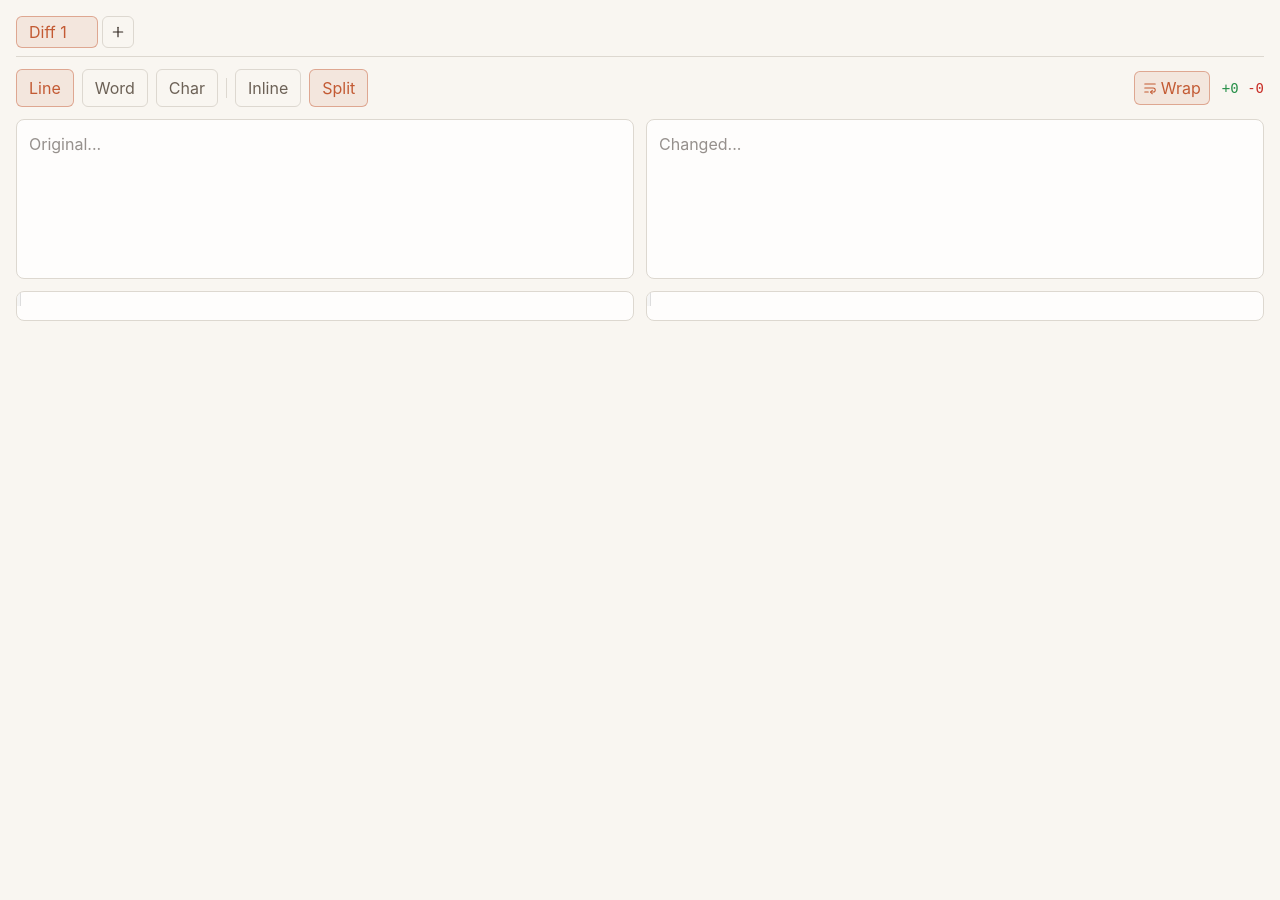
Test case: DiffTool › highlights an added word in inline mode
Click the button "Inline".
click(268, 88)  # box [235,69,301,107]
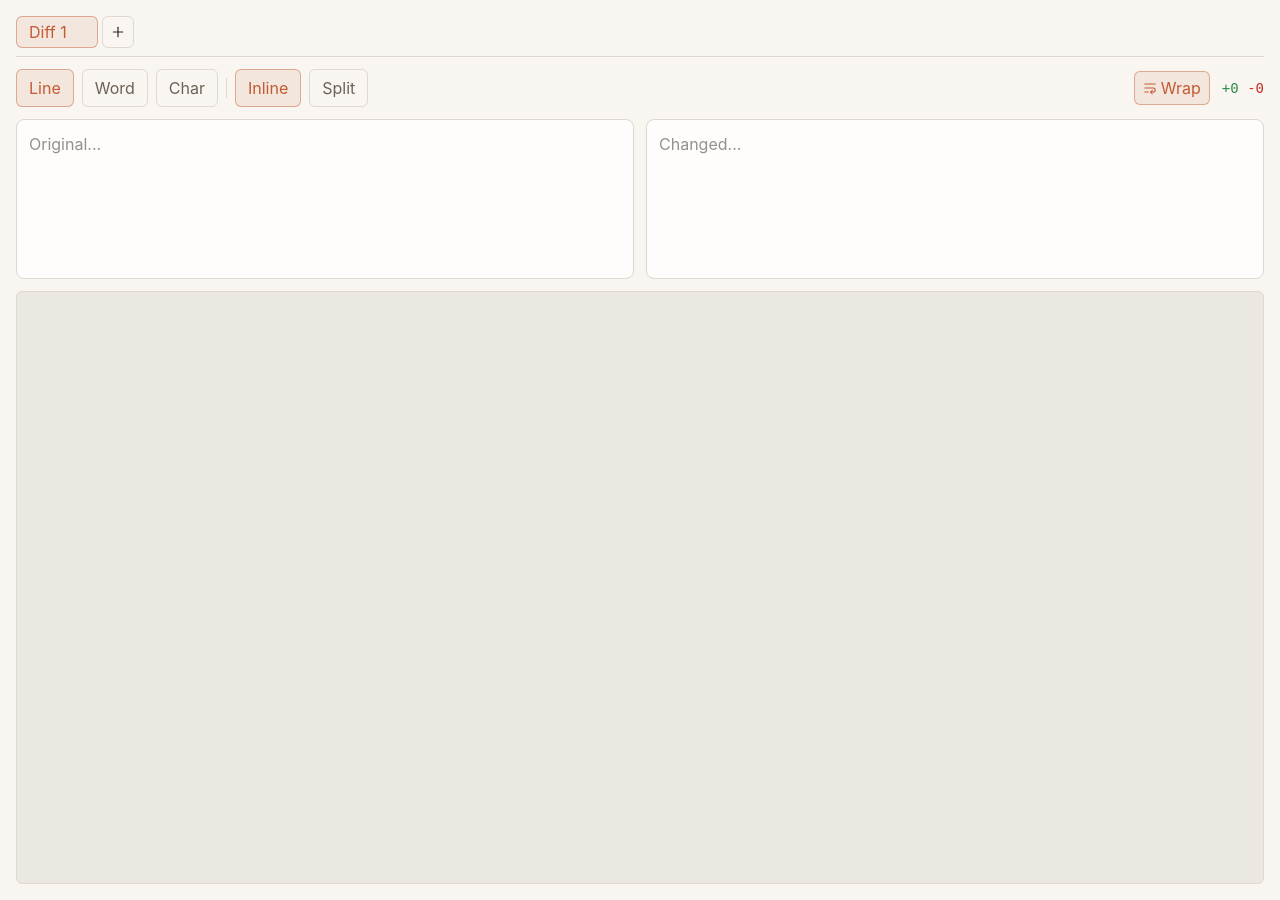
Type "hello world" into the text box named "Original (A)".
click(325, 199); type("hello world")  # box [16,119,634,279]
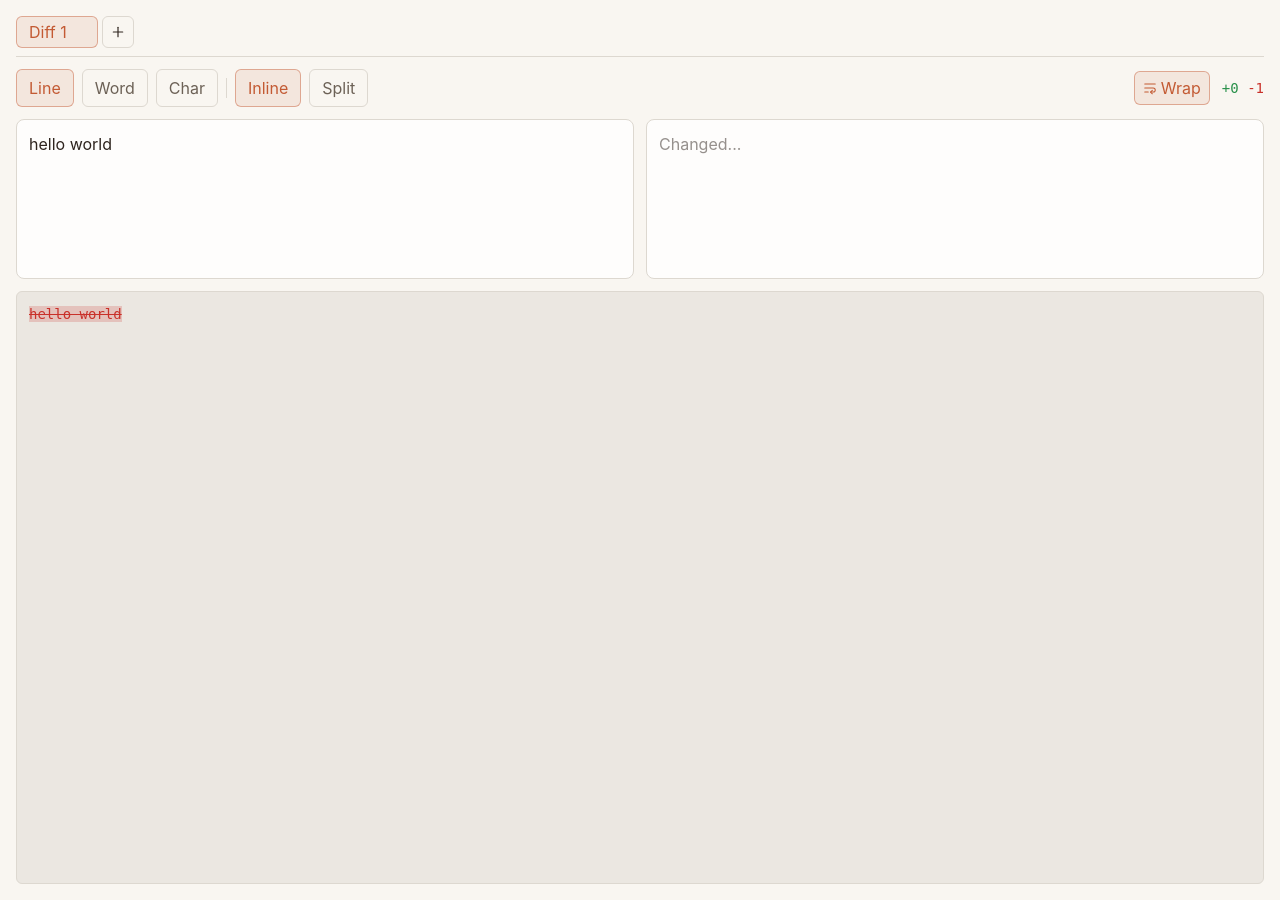
Type "hello brave world" into the text box named "Changed (B)".
click(955, 199); type("hello brave world")  # box [646,119,1264,279]
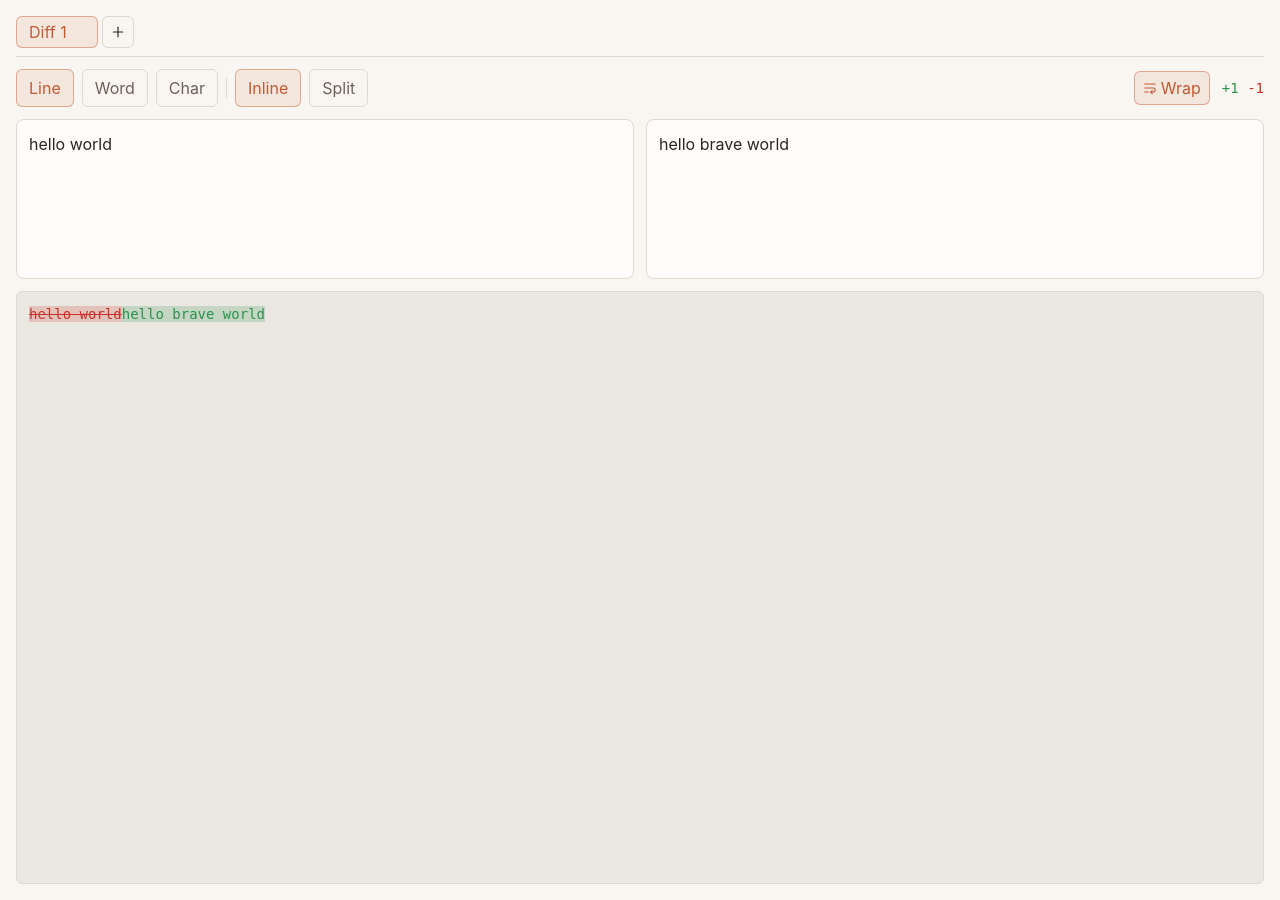
Expected: the text "hello brave world" is shown, [122,306,265,322]
